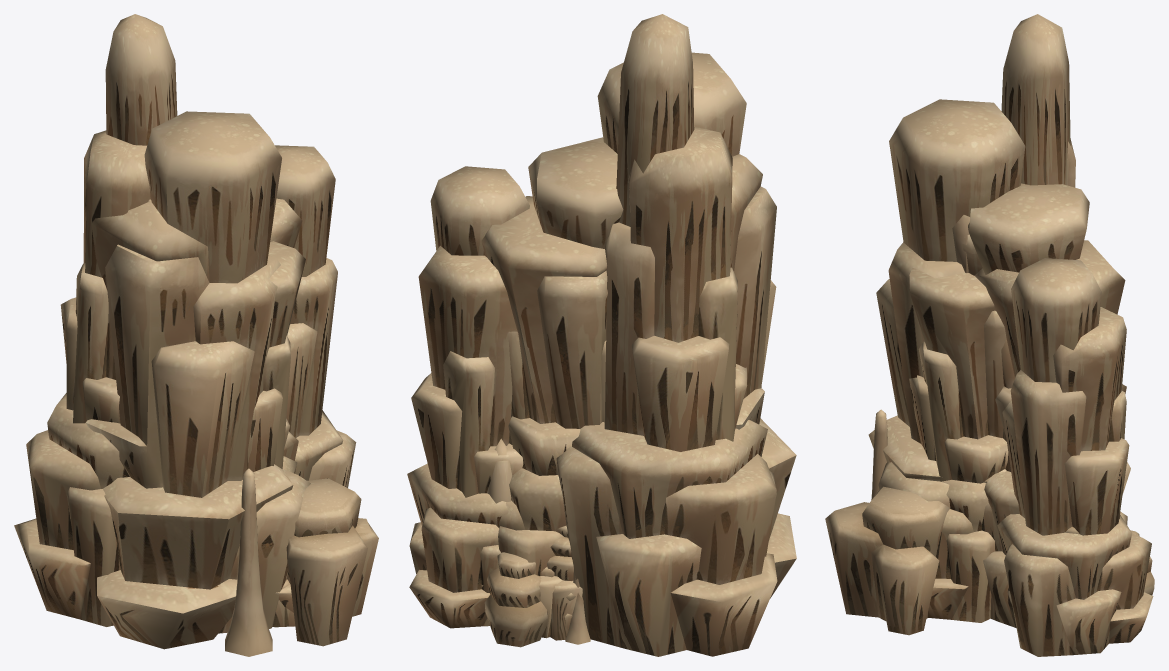
File: cave_props.gltf
3 views of the same model, side by side, from view 1: azimuth 30°, elevation 25°; view 2: azimuth 150°, elevation 25°; view 3: azimuth 270°, elevation 25° (orthographic). The views are drawn at different scales.
Parts seen in each view (by area): view 1: stalagmites_L_01, stalagmites_L_04, stalagmites_L_03, stalagmites_L_02; view 2: stalagmites_L_04, stalagmites_L_02, stalagmites_L_01, stalagmites_08, stalagmites_07, stalagmites_05, stalagmites_L_03, stalagmites_02, stalagmites_04; view 3: stalagmites_L_04, stalagmites_L_01, stalagmites_L_03, stalagmites_L_02.
Boxes of the visible parts, left/top/right/bottom form: stalagmites_L_01: left=85, top=111, right=310, bottom=649; stalagmites_L_04: left=14, top=14, right=378, bottom=646; stalagmites_L_03: left=248, top=241, right=305, bottom=612; stalagmites_L_02: left=225, top=198, right=302, bottom=656; stalagmites_L_04: left=407, top=14, right=777, bottom=656; stalagmites_L_02: left=481, top=137, right=623, bottom=586; stalagmites_L_01: left=597, top=52, right=796, bottom=598; stalagmites_08: left=484, top=552, right=547, bottom=647; stalagmites_07: left=541, top=567, right=582, bottom=640; stalagmites_05: left=547, top=525, right=575, bottom=634; stalagmites_L_03: left=487, top=438, right=512, bottom=503; stalagmites_02: left=565, top=569, right=590, bottom=644; stalagmites_04: left=539, top=576, right=562, bottom=638; stalagmites_L_04: left=825, top=14, right=1153, bottom=656; stalagmites_L_01: left=868, top=99, right=1079, bottom=534; stalagmites_L_03: left=909, top=234, right=1008, bottom=622; stalagmites_L_02: left=871, top=183, right=1127, bottom=627.
Bounding box in the file's own units: 5.1 × 8.6 × 4.68.
2 materials, 2 textured.
